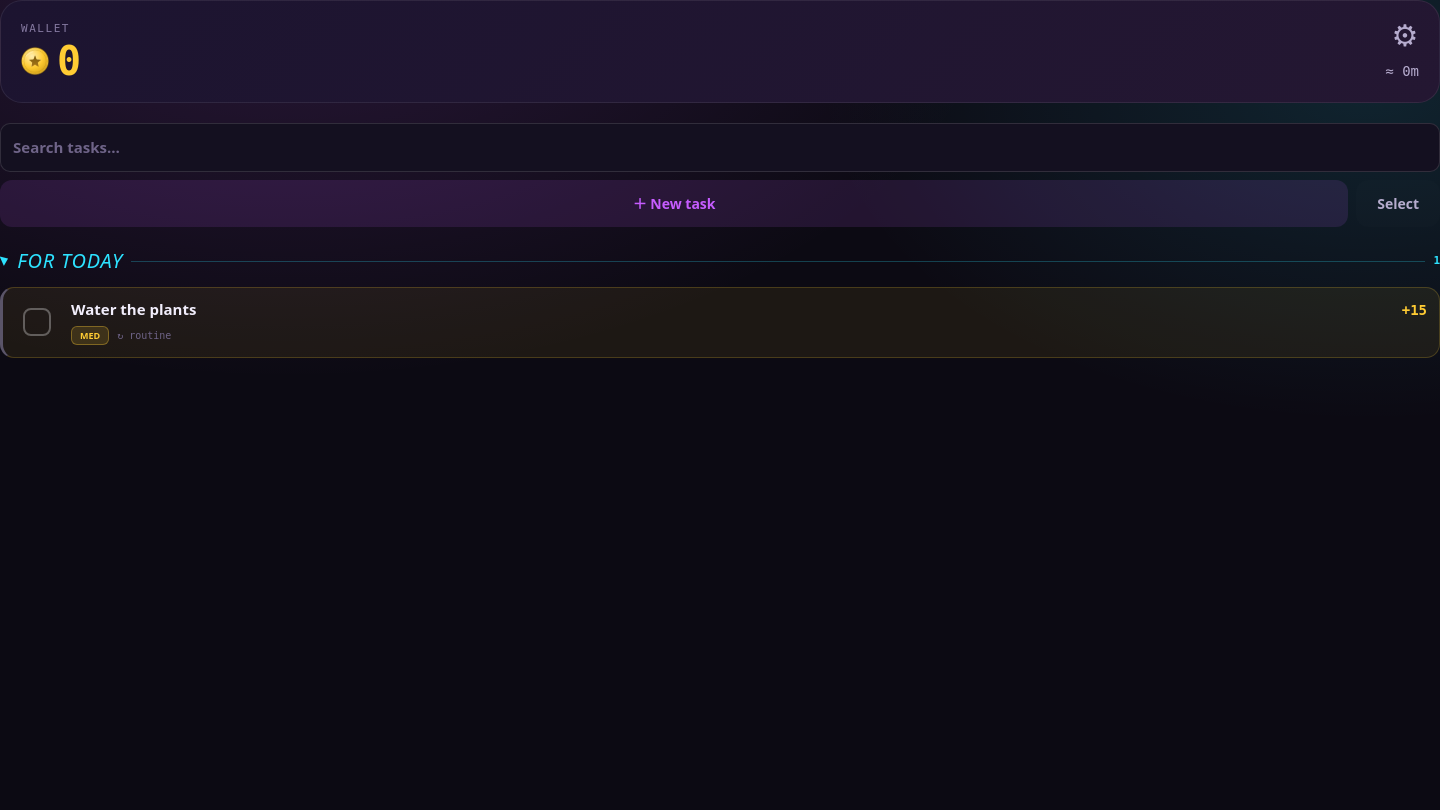
Test: ticking a step from the sheet › ticks it on screen without waiting to be reopened
Step 1. Click the button "Water the plants" → (134, 309), box [71,300,1390,318]
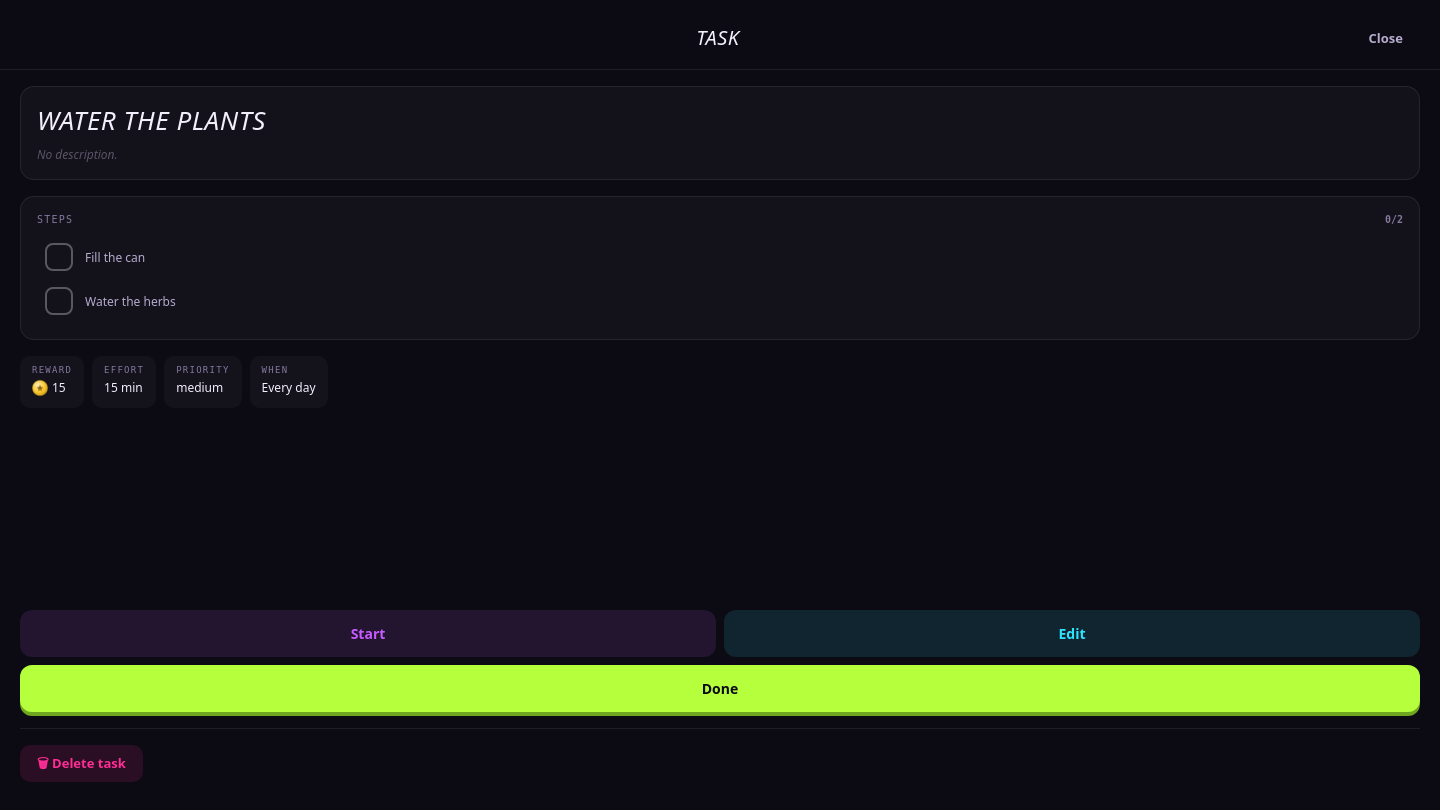
Step 2. Click the checkbox "Fill the can" → (115, 257), box [85,249,145,266]
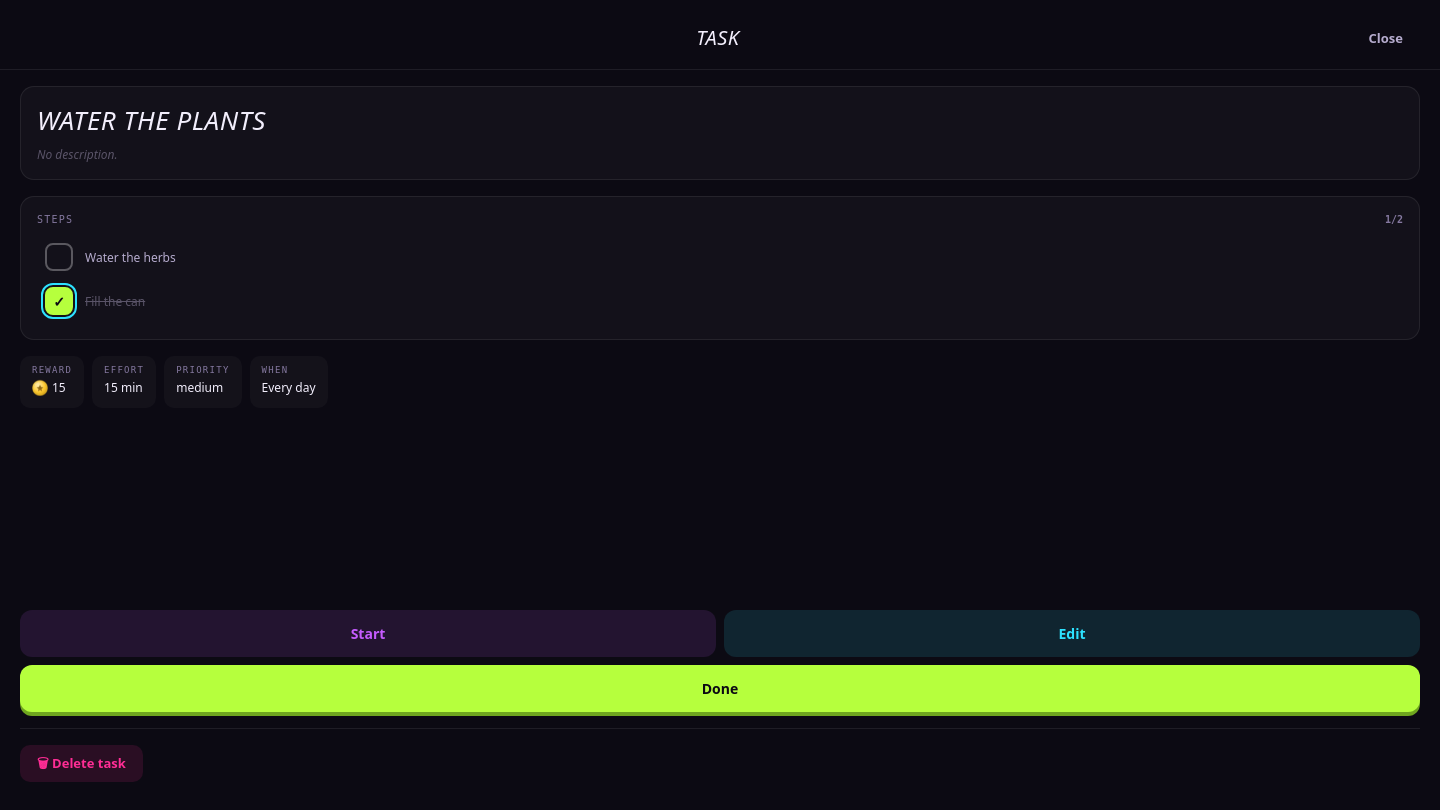
expect the text "1/2" is shown: met, box [1385,213,1403,227]
